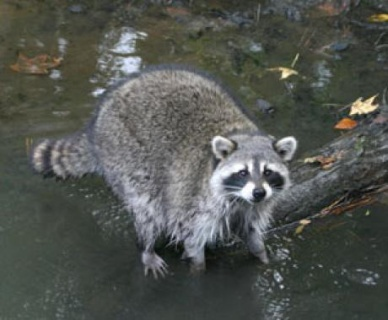Raccoon: (21, 59, 309, 282)
